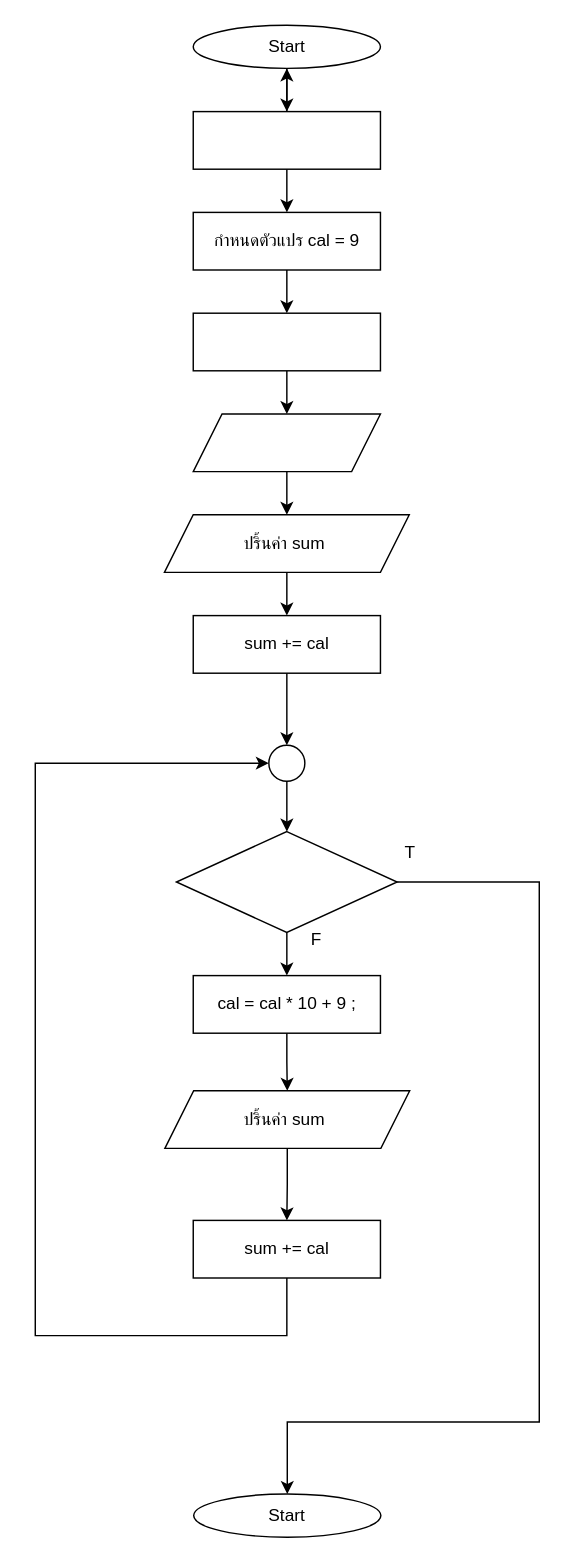
The diagram is 576 pixels wide and 1562 high, and some of its shapes have lost their labels. Each missing label, with the centre of its shape:
กรอกค่า Input: the point at 286,442
กำหนดตัวแปร Input: the point at 286,341
กำหนดตัวแปร sum: the point at 286,139
วนครบรอบแล้วหรือไม่: the point at 286,881
